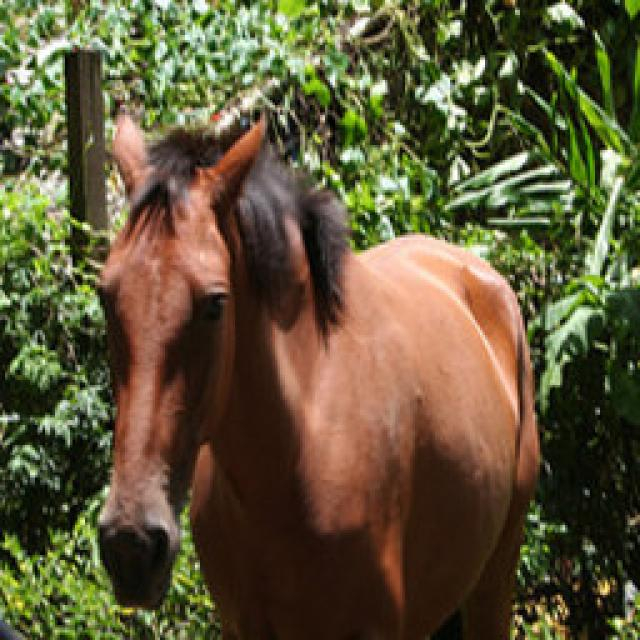not_pig: (92, 105, 542, 637)
